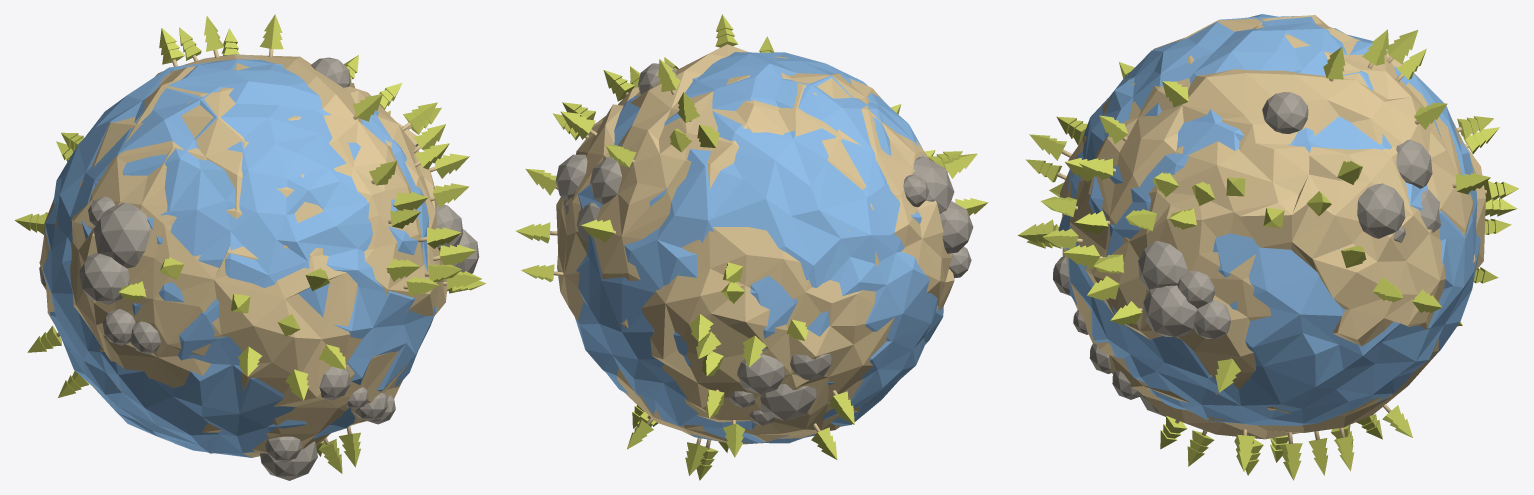
The model's file is PLANET_2_NORMAL_OPT.fbx.
3 views of the same model, side by side, from view 1: azimuth 30°, elevation 25°; view 2: azimuth 150°, elevation 25°; view 3: azimuth 270°, elevation 25° (orthographic). The views are drawn at different scales.
Visible parts, largest first — view 1: Planet_Normal_OPT_2; view 2: Planet_Normal_OPT_2; view 3: Planet_Normal_OPT_2.
Part boxes in pixels (x1,y1,x2,y2): Planet_Normal_OPT_2: (14,14,486,480); Planet_Normal_OPT_2: (516,14,988,480); Planet_Normal_OPT_2: (1017,14,1519,480).
Size of the model in its own units: 220 by 226 by 235.
